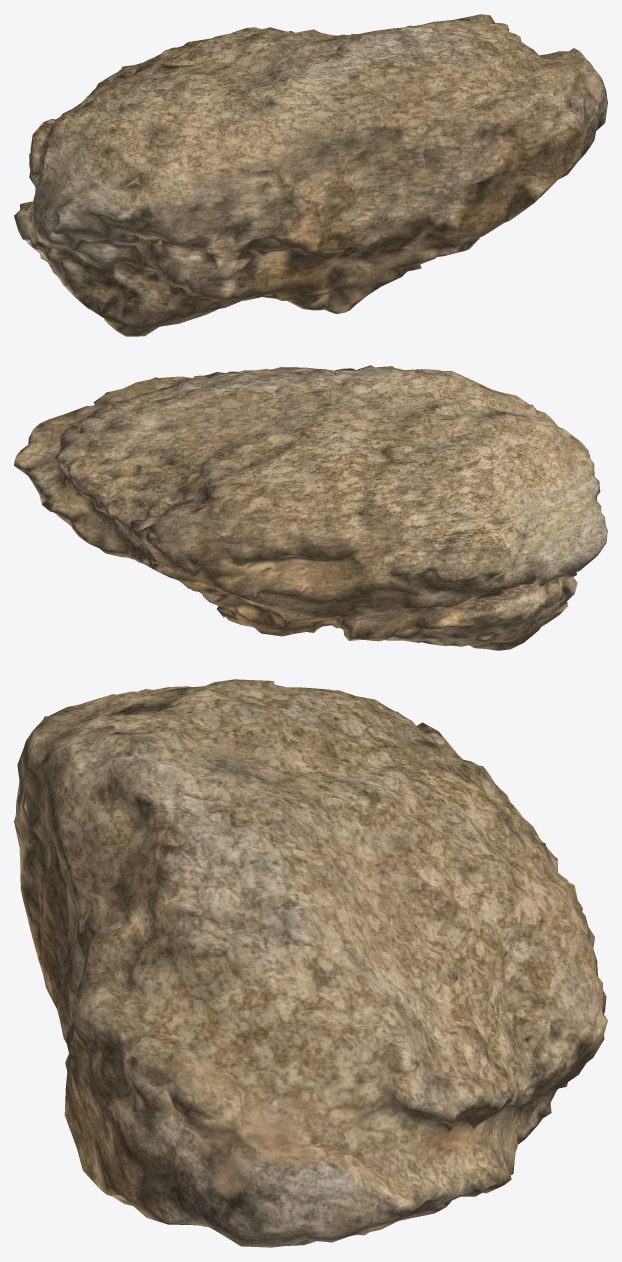
The model's file is namaqualand_boulder_05.glb.
3 renders of one model, top to bottom at view 1: azimuth 30°, elevation 25°; view 2: azimuth 150°, elevation 25°; view 3: azimuth 270°, elevation 25°, orthographic. The views are drawn at different scales.
Parts seen in each view (by area): view 1: namaqualand_boulder_05; view 2: namaqualand_boulder_05; view 3: namaqualand_boulder_05.
Part boxes in pixels (left/top/right/bottom): namaqualand_boulder_05: left=14, top=14, right=607, bottom=336; namaqualand_boulder_05: left=14, top=365, right=607, bottom=650; namaqualand_boulder_05: left=14, top=679, right=607, bottom=1247.
Bounding box in the file's own units: 1.36 × 0.5362 × 0.7481.
Materials: 1 (1 with a texture image).
